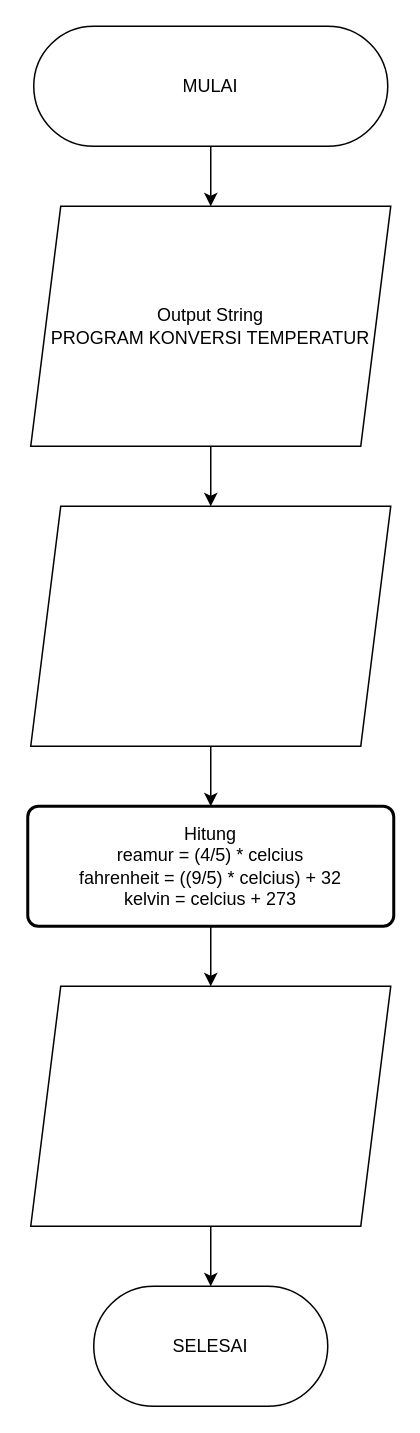
This 420x1433 diagram has some shape labels left out. The centre of each missing label's shape, as x and y in pixels:
"Input Masukan suhu dalam celcius" belongs at (x=210, y=625).
"Ouput Nilai reamur Nilai fahrenheit Nilai kelvin" belongs at (x=210, y=1105).
